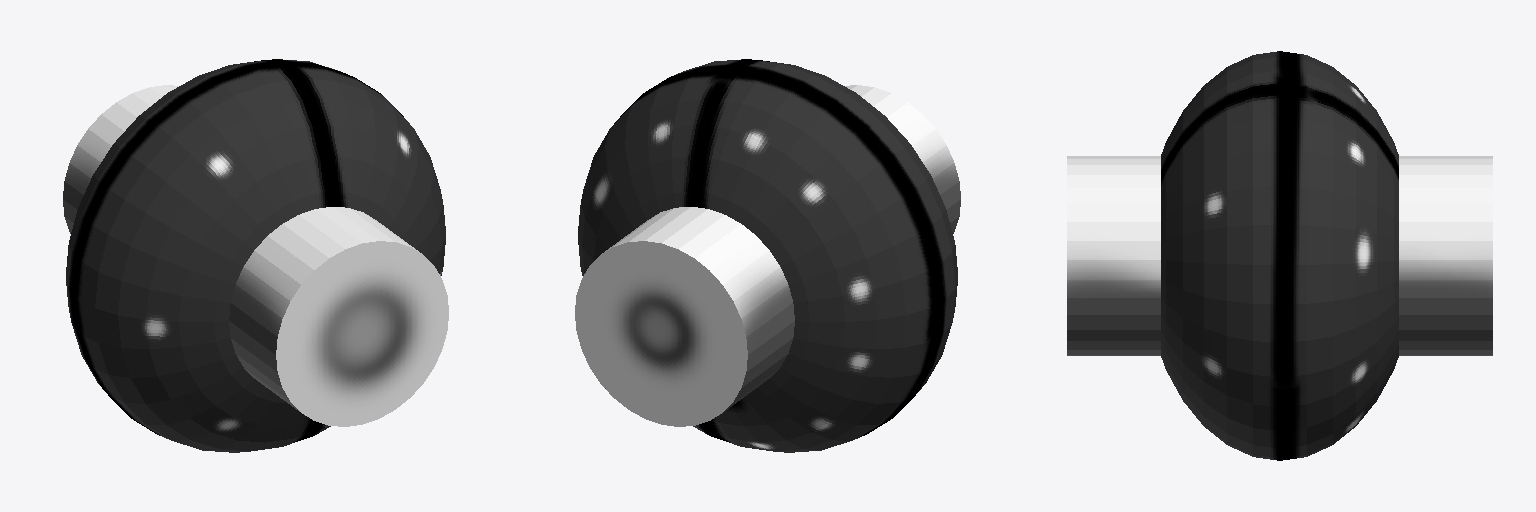
3 views of the same model, side by side, from view 1: azimuth 30°, elevation 25°; view 2: azimuth 150°, elevation 25°; view 3: azimuth 270°, elevation 25° (orthographic).
Visible parts, largest first — view 1: Sphere, Cylinder; view 2: Sphere, Cylinder; view 3: Sphere, Cylinder.
Part boxes in pixels (bbox=[...]): Sphere: bbox=[66, 59, 445, 452]; Cylinder: bbox=[63, 85, 448, 426]; Sphere: bbox=[578, 59, 957, 452]; Cylinder: bbox=[575, 85, 960, 426]; Sphere: bbox=[1161, 51, 1398, 460]; Cylinder: bbox=[1067, 156, 1492, 355].
Size of the model in its own units: 4.1 by 4.1 by 4.26.
2 materials, 2 textured.